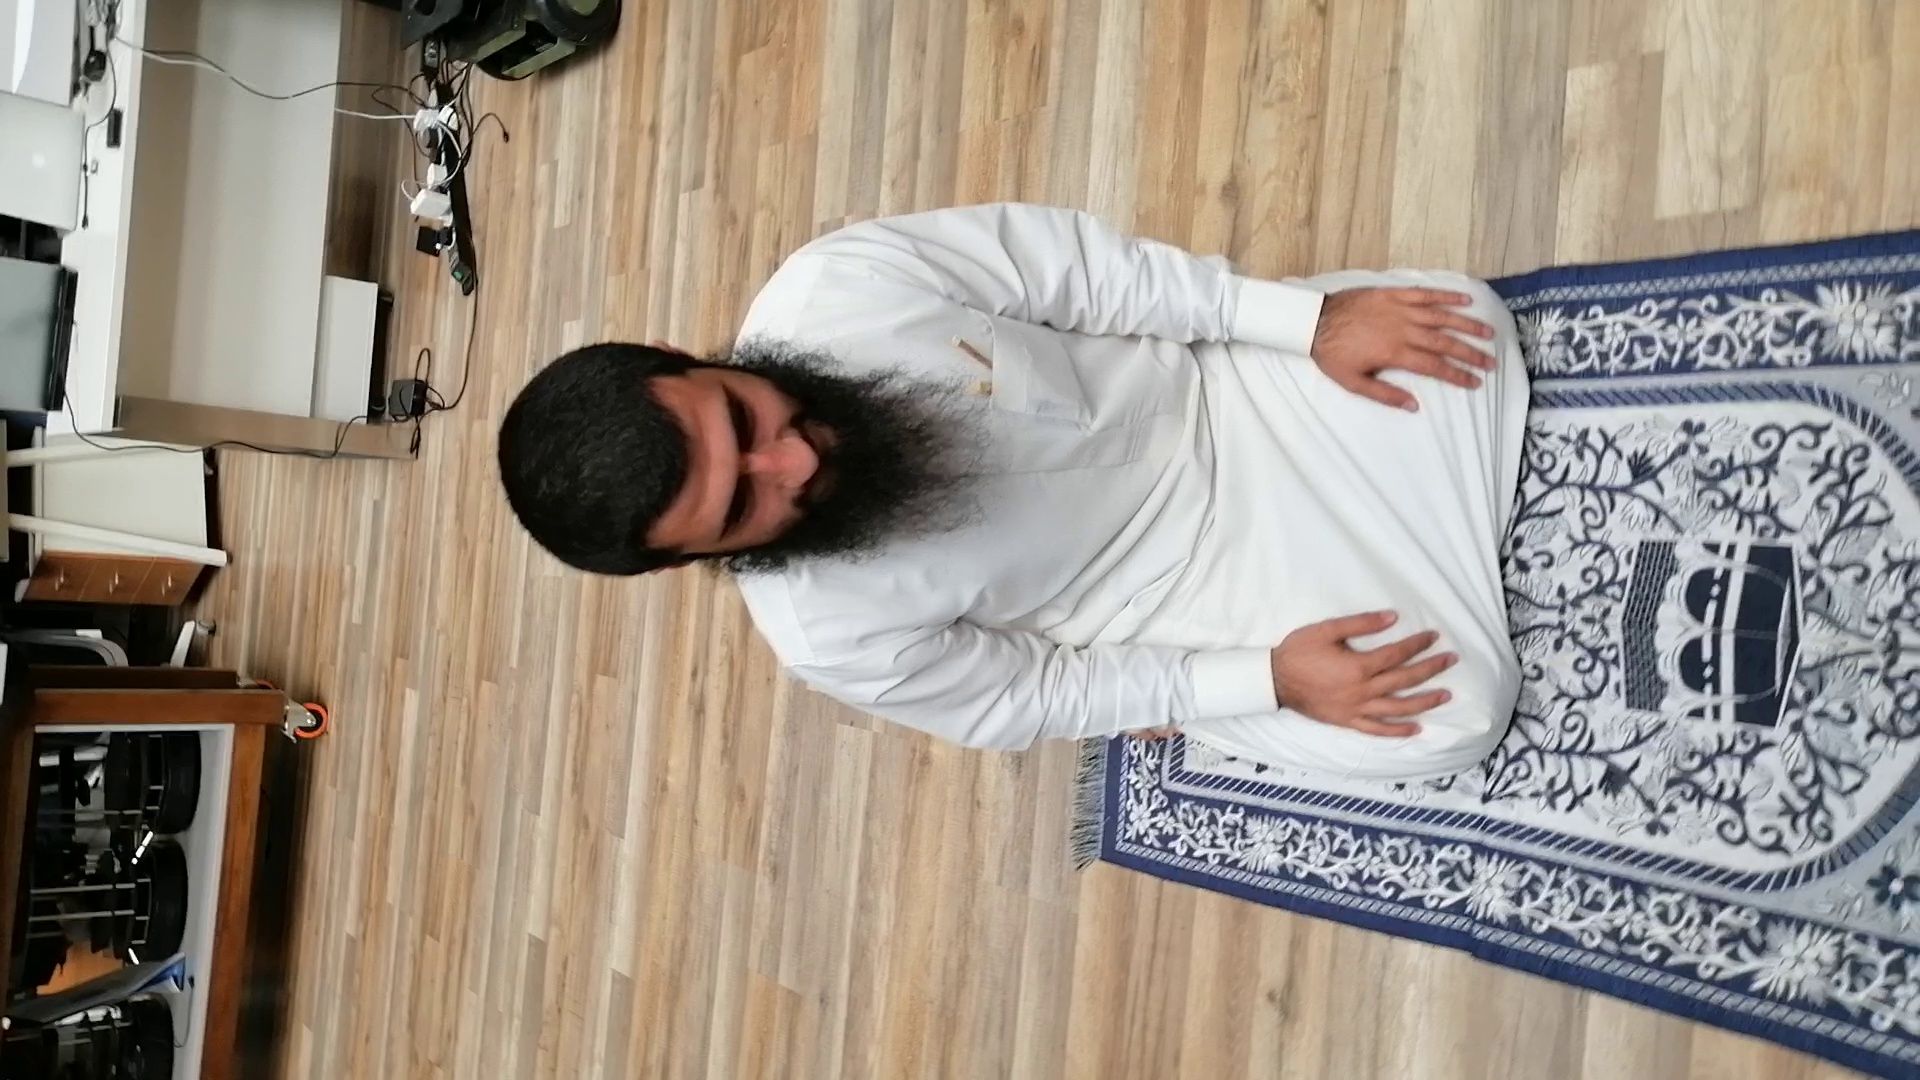sitting: (484, 165, 1647, 865)
